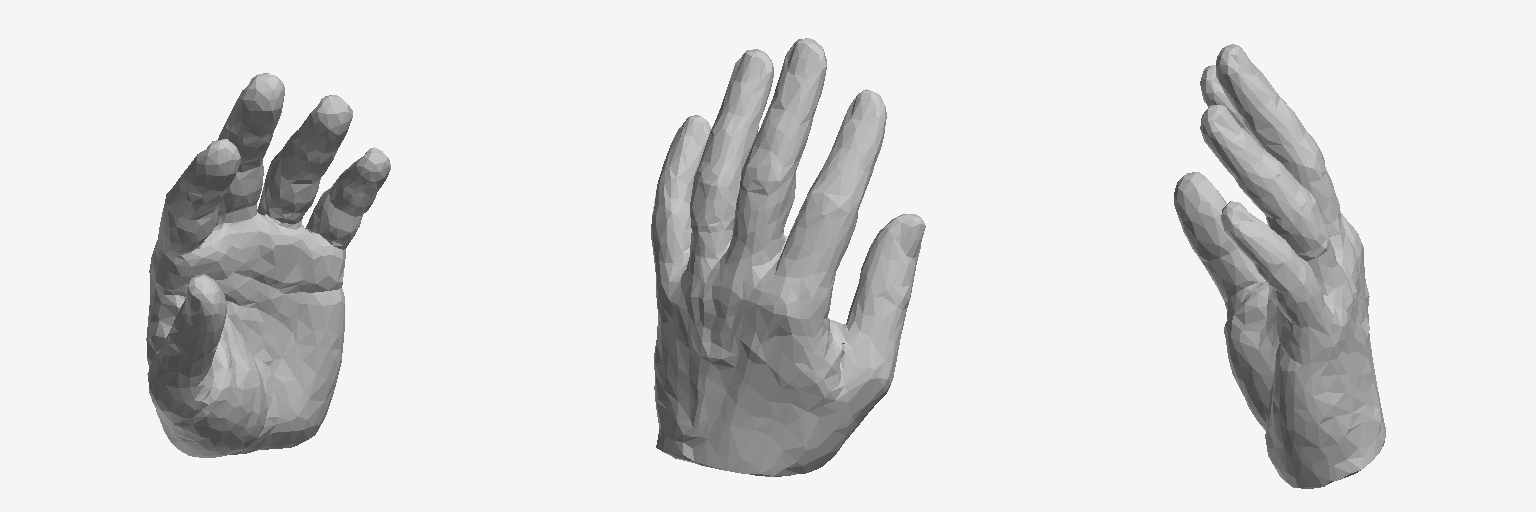
Rendered from hand-dec.obj.
The picture shows the model from 3 angles: view 1: azimuth 30°, elevation 25°; view 2: azimuth 150°, elevation 25°; view 3: azimuth 270°, elevation 25°; orthographic projection.
Parts seen in each view (by area): view 1: hand; view 2: hand; view 3: hand.
Boxes of the visible parts, box(x1,y1,x2,y2) form: hand: box(146, 73, 390, 457); hand: box(651, 38, 925, 476); hand: box(1174, 44, 1385, 488).
Size of the model in its own units: 2.4 by 4.1 by 1.96.